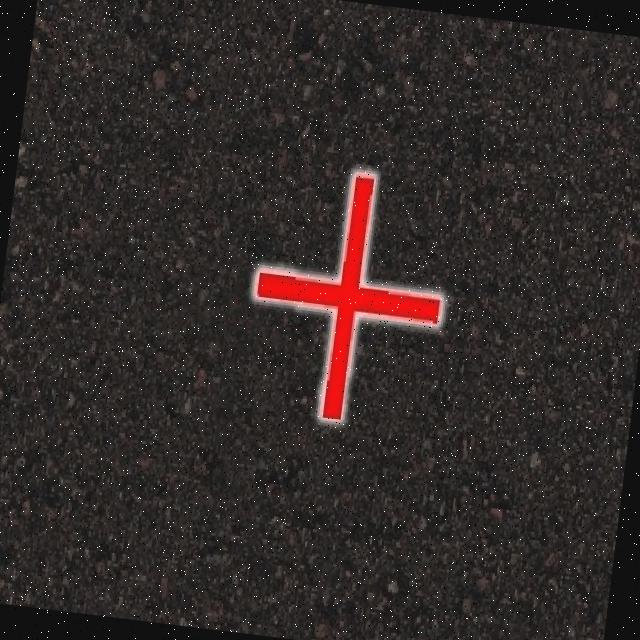x_marker: (240, 162, 454, 428)
